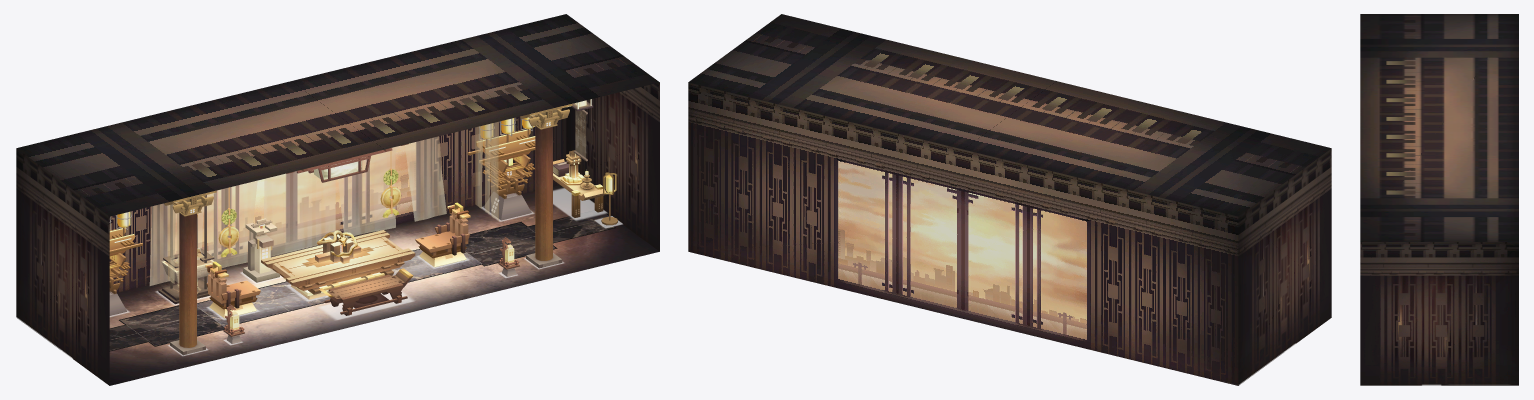
File: receptionRoom.glb
The picture shows the model from 3 angles, left to right: view 1: azimuth 30°, elevation 25°; view 2: azimuth 150°, elevation 25°; view 3: azimuth 270°, elevation 25°; orthographic projection. The views are drawn at different scales.
Visible parts, largest first — view 1: ROOM_room, ROOM_floor, furni_receptionRoom_wideCurtains_02, furni_receptionRoom_carpet_01, furni_receptionRoom_receptionTable_02, furni_receptionRoom_lanternStand_02.001, furni_receptionRoom_pillar_02, furni_receptionRoom_pillar_02.001, furni_receptionRoom_tightCurtains_02.001, furni_receptionRoom_armchair_03, ROOM_LDoor, furni_receptionRoom_bench_02 (+15 smaller); view 2: ROOM_room, ROOM_LDoor; view 3: ROOM_room, ROOM_RDoor.
Part boxes in pixels (x1,y1,x2,y2): ROOM_room: (16,14,659,385); ROOM_floor: (109,185,659,385); furni_receptionRoom_wideCurtains_02: (149,136,446,285); furni_receptionRoom_carpet_01: (109,210,615,351); furni_receptionRoom_receptionTable_02: (261,230,415,296); furni_receptionRoom_lanternStand_02.001: (467,117,535,198); furni_receptionRoom_pillar_02: (164,190,216,347); furni_receptionRoom_pillar_02.001: (520,103,572,260); furni_receptionRoom_tightCurtains_02.001: (475,122,498,221); furni_receptionRoom_armchair_03: (415,202,470,258); ROOM_LDoor: (76,285,95,375); furni_receptionRoom_bench_02: (319,268,413,314); ROOM_room: (688,14,1331,385); ROOM_LDoor: (1299,251,1317,341); ROOM_room: (1360,14,1518,385); ROOM_RDoor: (1383,320,1416,385).
Size of the model in its own units: 7.56 by 2.2 by 2.21.
Materials: 8 (8 with a texture image).
